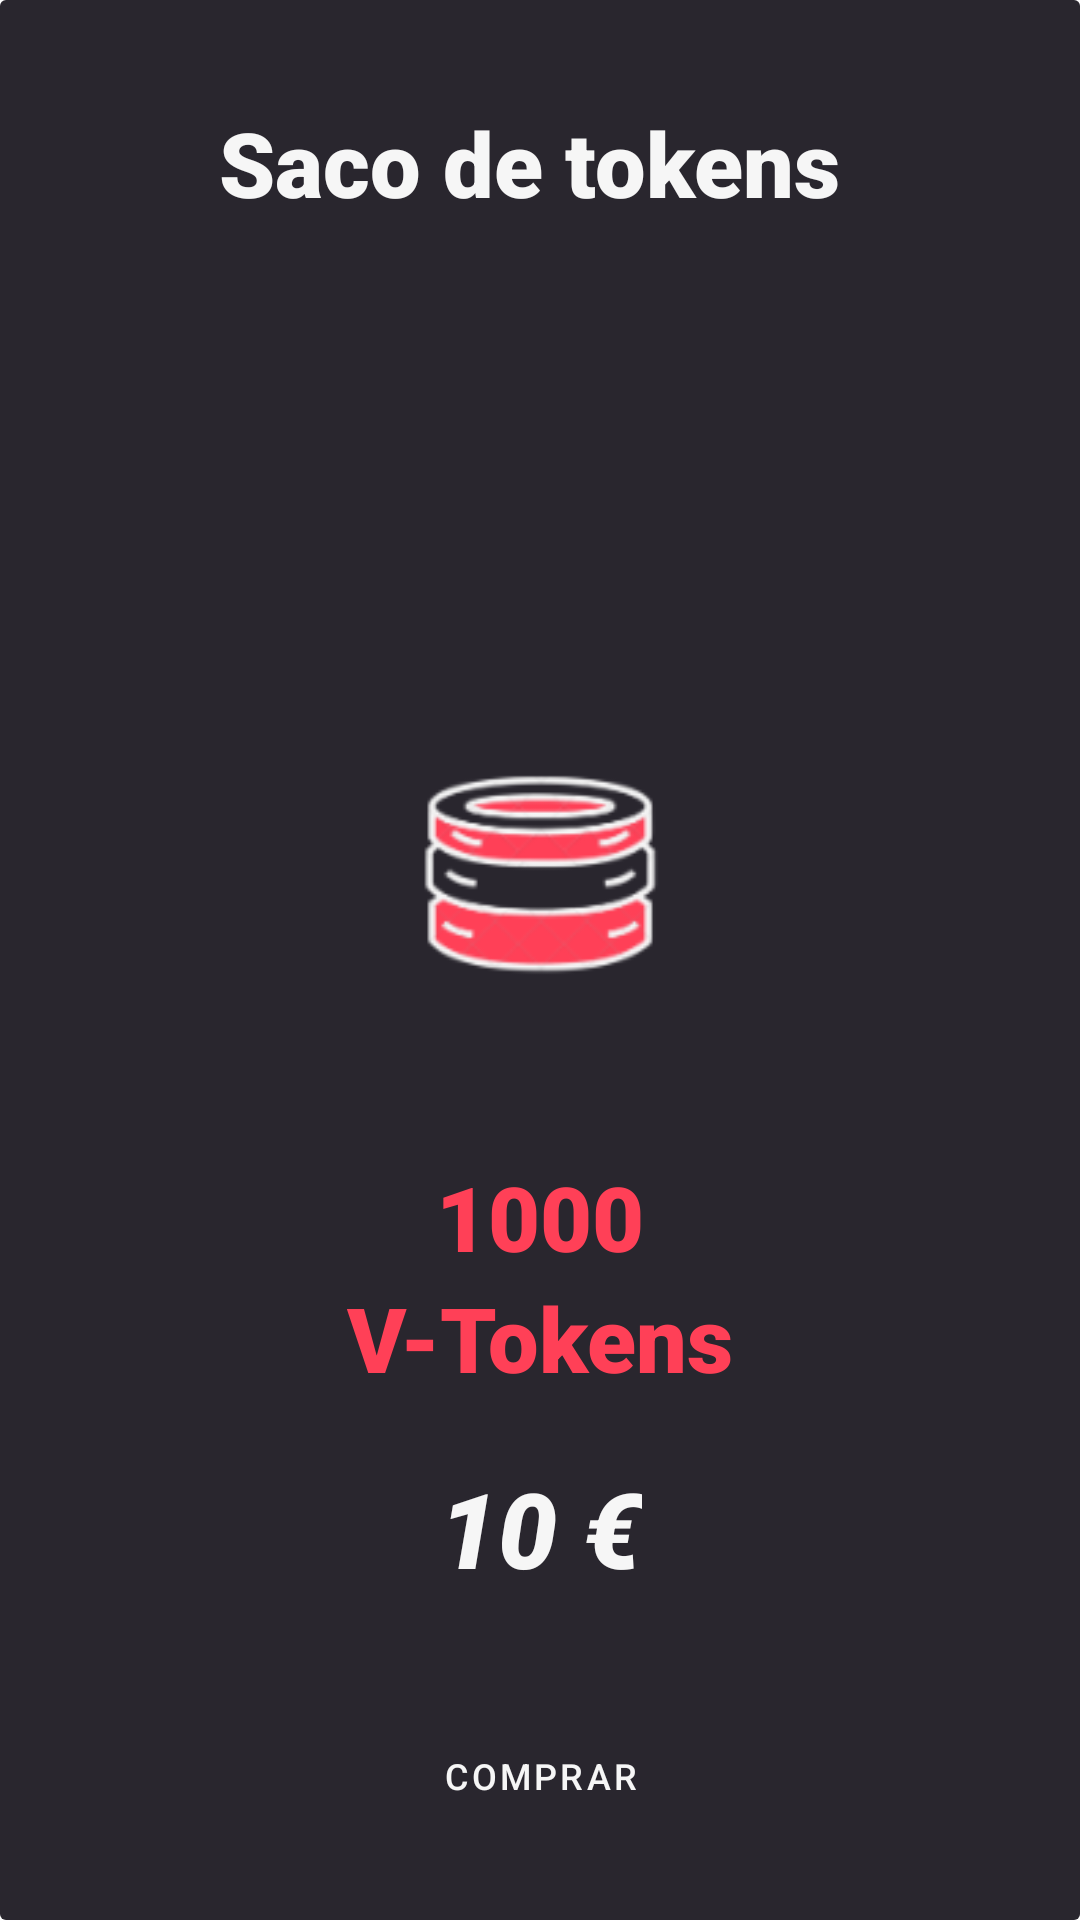

Icons on this 1080px x 1920px Android screen, each with its box as (x1, y1, x2, y2):
ttokens: (424, 776, 656, 973)
